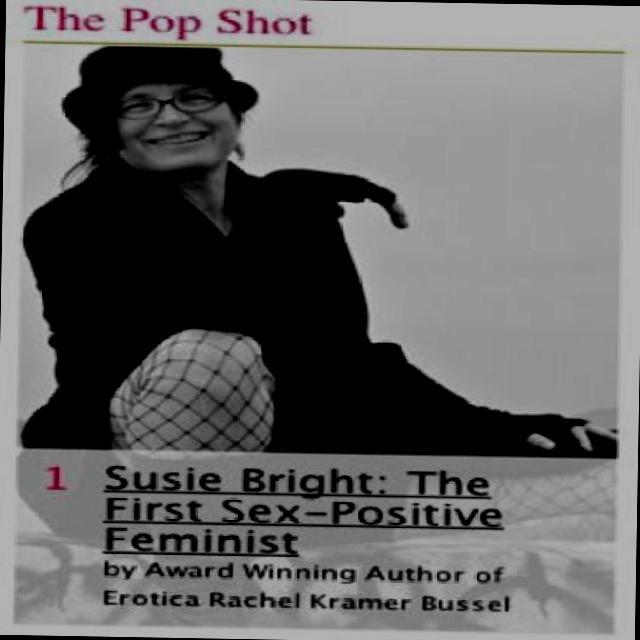Person: (0, 43, 437, 464)
